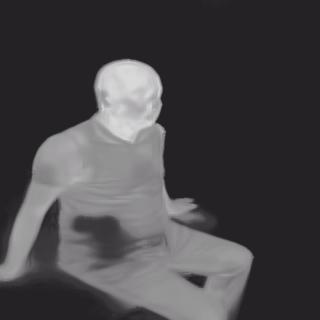Gun: (72, 214, 124, 259)
